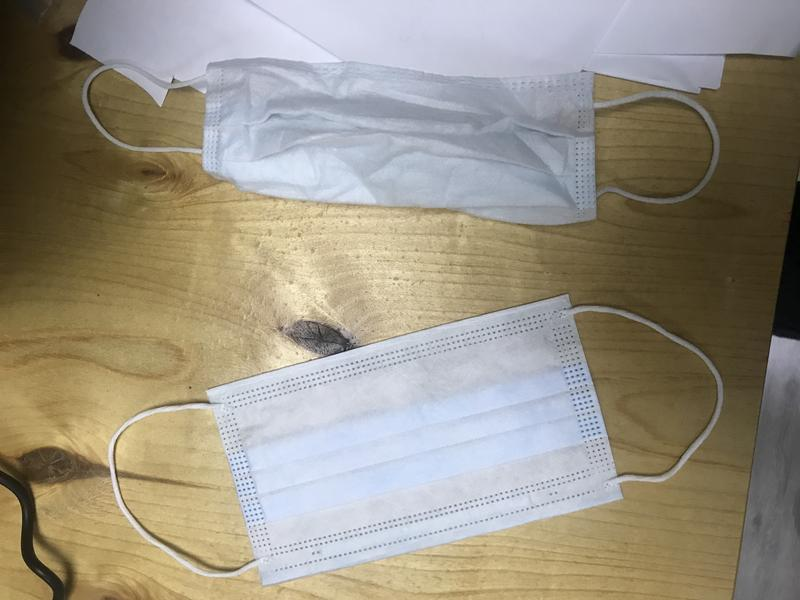medical_mask: (109, 293, 722, 580), (83, 59, 722, 224)
